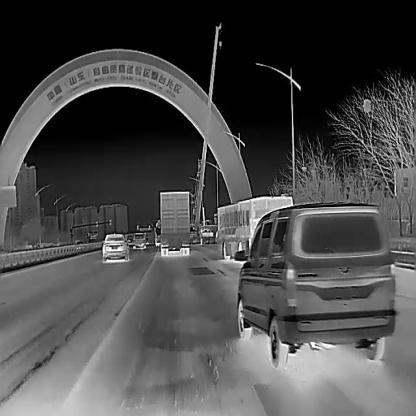car: (237, 202, 393, 368), (217, 196, 293, 258), (159, 192, 189, 256), (102, 232, 129, 261), (197, 226, 213, 243), (154, 219, 161, 251), (133, 232, 146, 249), (74, 241, 82, 250)
